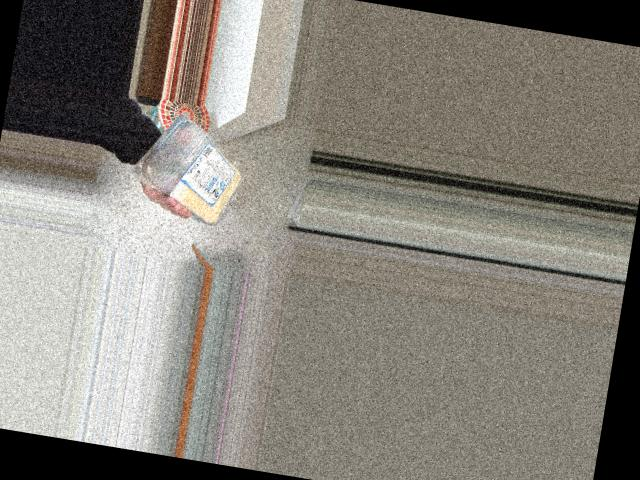cheese: (153, 106, 256, 222)
